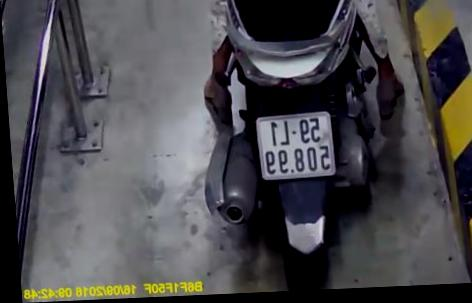License_Plate: (249, 104, 342, 179)
